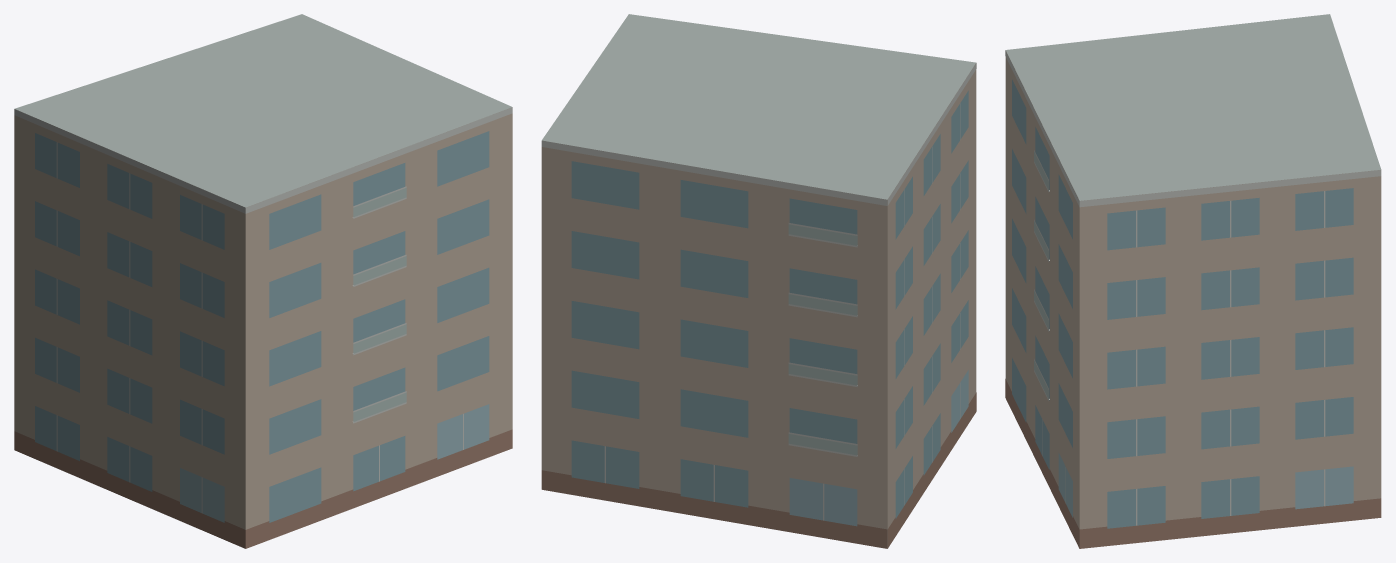
The model's file is survey-upis-32493761.glb.
The picture shows the model from 3 angles, left to right: view 1: azimuth 30°, elevation 25°; view 2: azimuth 150°, elevation 25°; view 3: azimuth 270°, elevation 25°; orthographic projection. The views are drawn at different scales.
Visible parts, largest first — view 1: survey-upis-32493761.tmp; view 2: survey-upis-32493761.tmp; view 3: survey-upis-32493761.tmp.
Part boxes in pixels (x1,y1,x2,y2): survey-upis-32493761.tmp: (14, 14, 512, 548); survey-upis-32493761.tmp: (541, 14, 976, 548); survey-upis-32493761.tmp: (1005, 14, 1381, 548).
Bounding box in the file's own units: 15.33 × 13.3 × 13.03.
